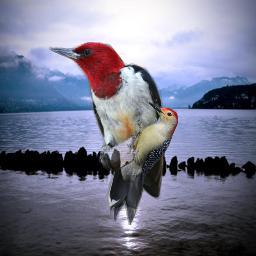Woodpecker: (49, 41, 165, 225), (127, 102, 178, 175)
